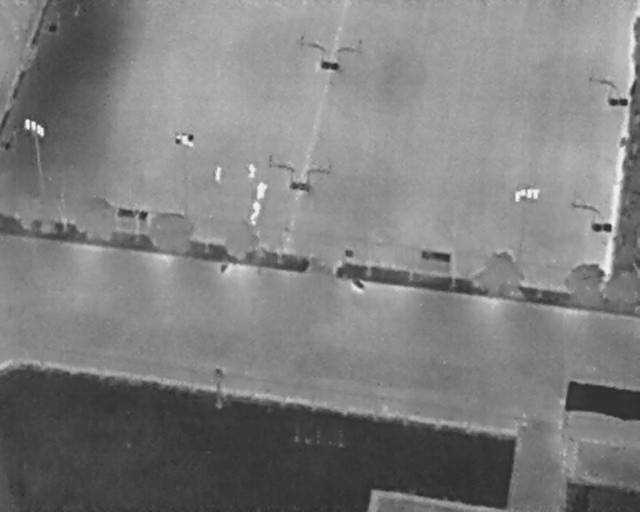Person: (257, 184, 268, 199), (257, 180, 264, 200), (248, 163, 257, 178), (251, 210, 259, 226), (253, 199, 261, 214), (215, 166, 221, 181)
